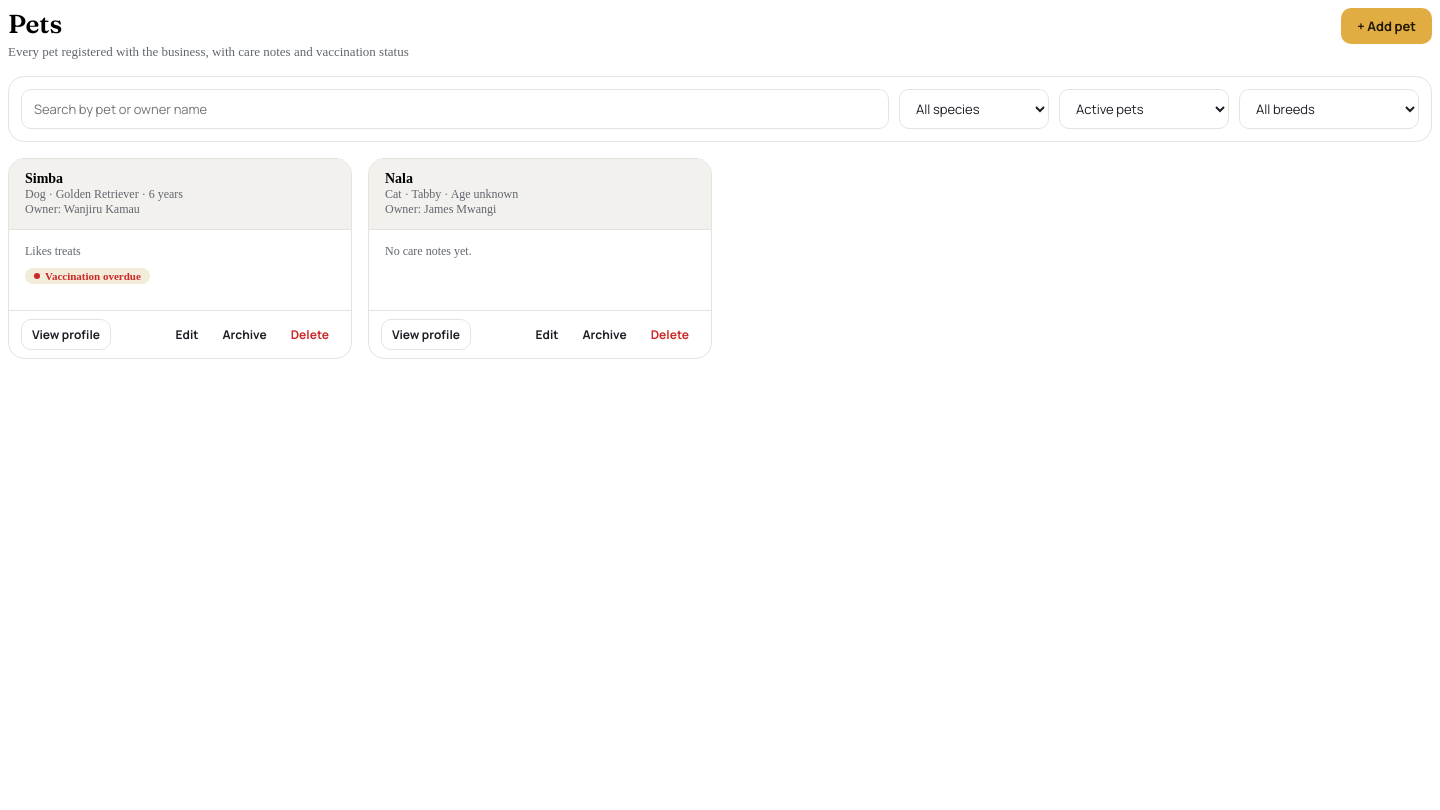
Test: PetsPage › asks for confirmation before deleting, then removes the pet
This screenshot has width=1440, height=810.
Expected: the text "Simba" is shown, x1=25 y1=171 x2=63 y2=186
What coordinates should you click on to do the following:
click the button with aria-label "Delete Simba"
I would click on:
 (310, 334)
Its box is x1=281 y1=320 x2=339 y2=349.
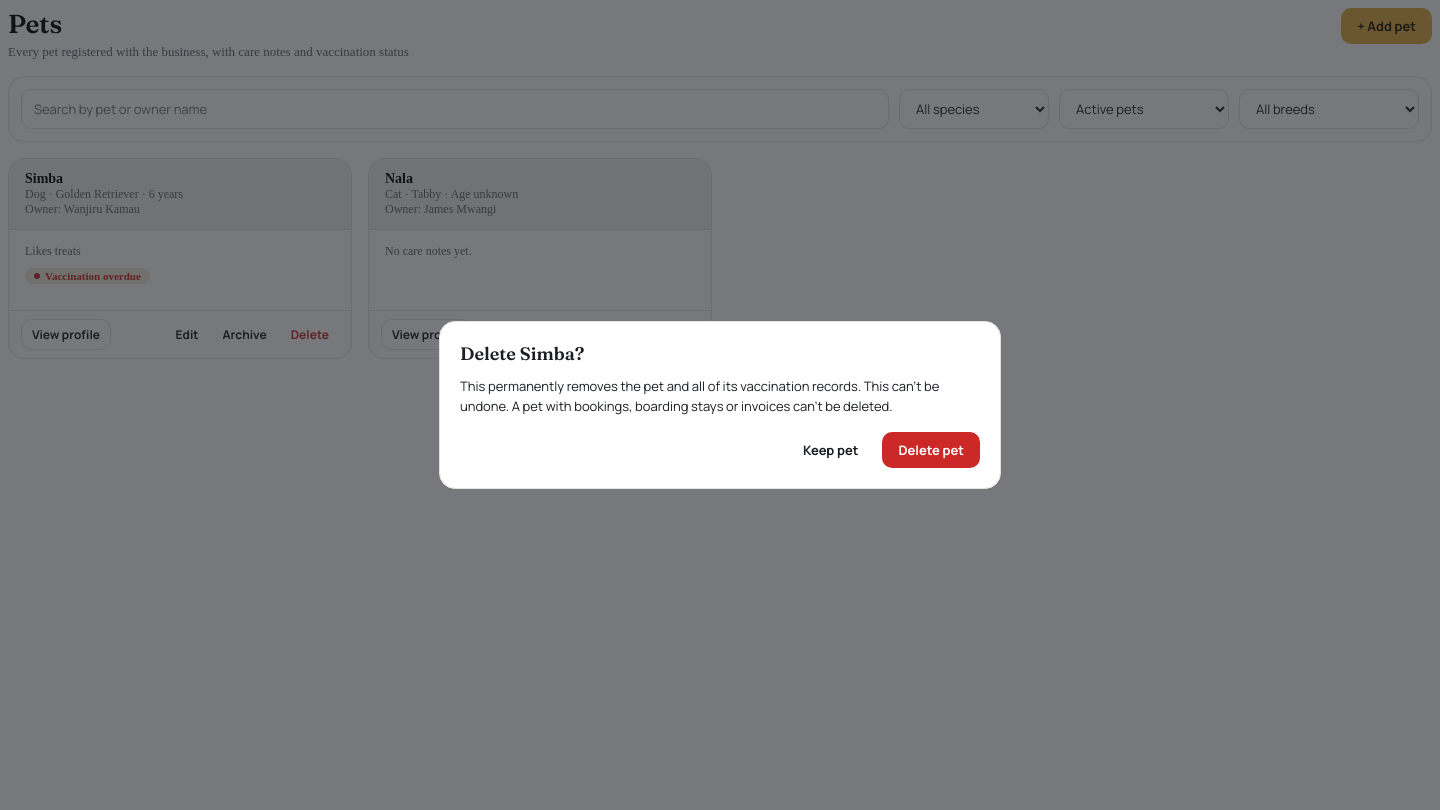
Expected: the heading "Delete Simba?" is shown, x1=460 y1=342 x2=584 y2=365
What coordinates should you click on to do the following:
click the button "Delete pet"
I would click on:
 (931, 450)
Its box is x1=882 y1=432 x2=980 y2=468.
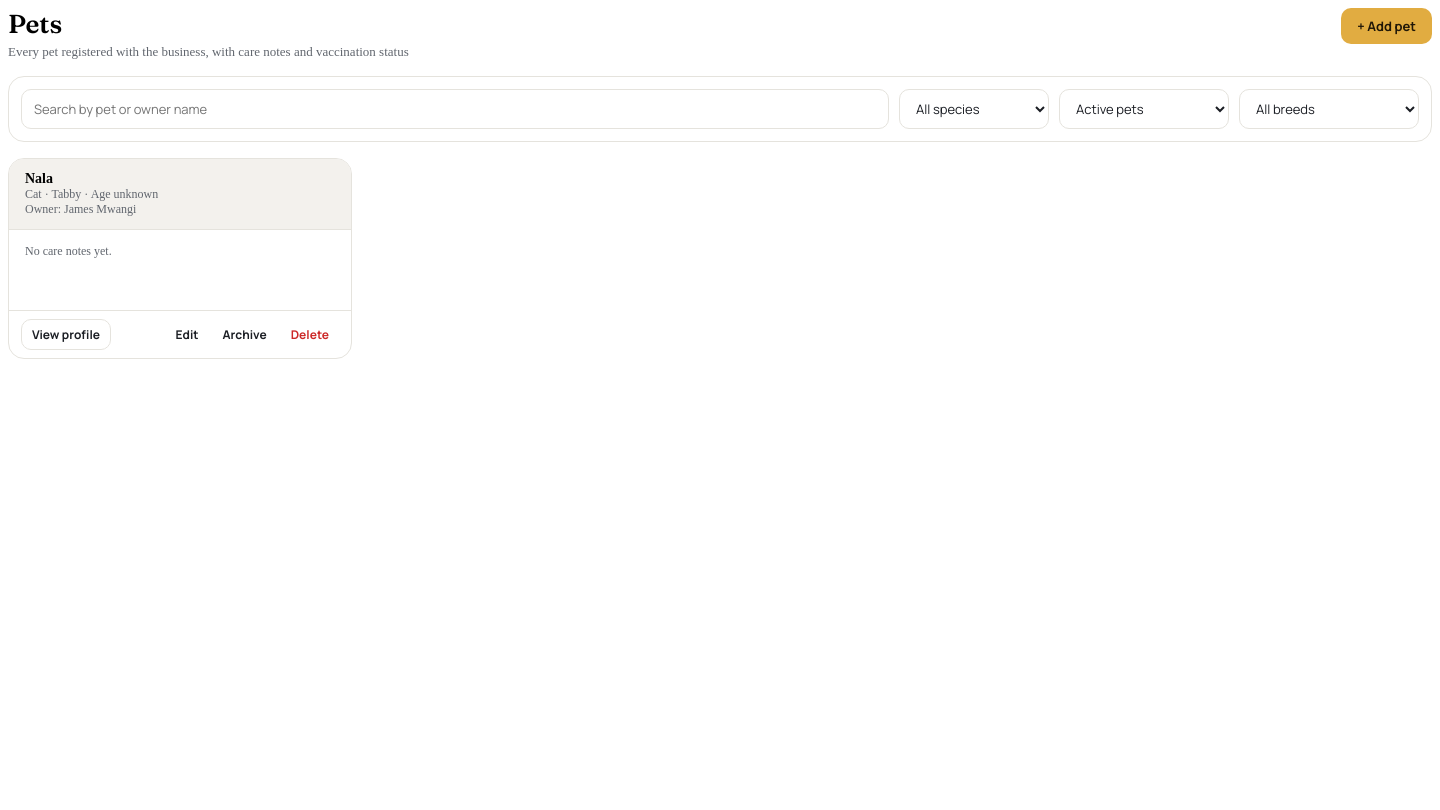
Expected: the text "Simba" is gone
